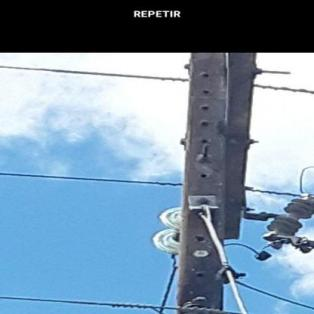Poste: (117, 53, 296, 314)
